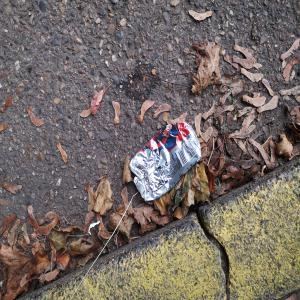Can: (128, 120, 205, 205)
